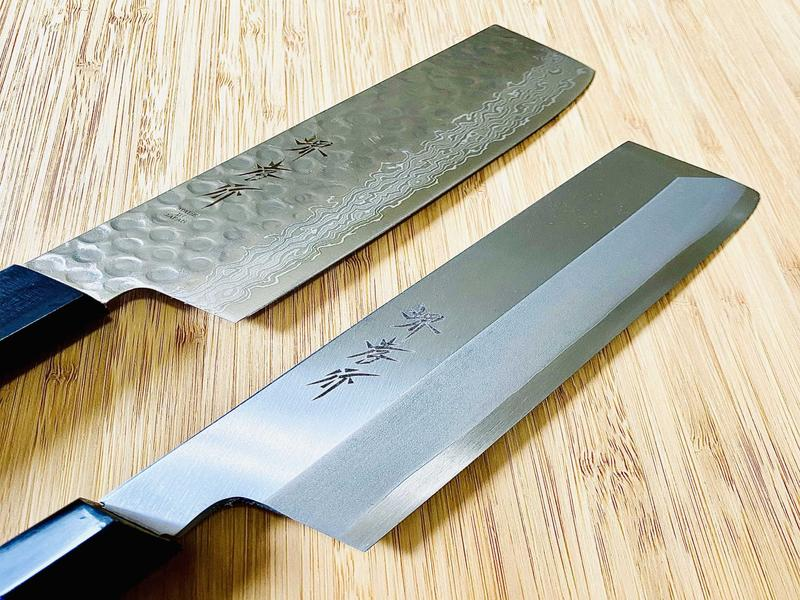KNIFE: (1, 22, 764, 599)
